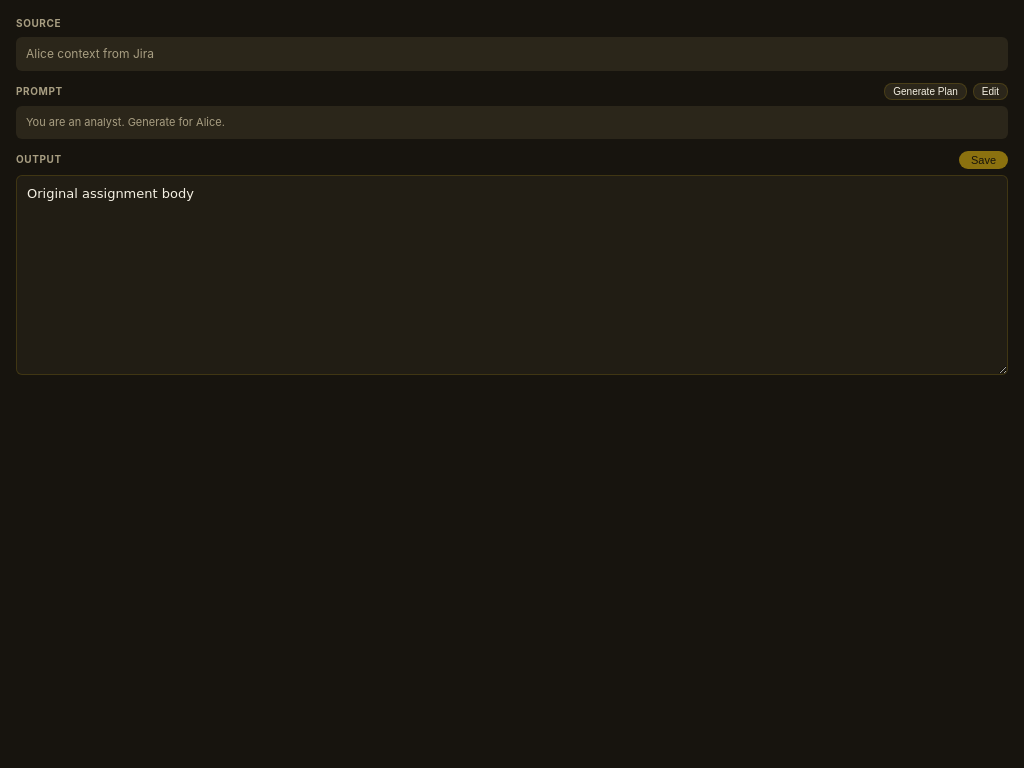
Scenario: PersonAssignmentDetail — prompt edit + modal › Cancel on modal closes without saving
Click the button "Edit": (990, 92) [973, 83, 1008, 100]
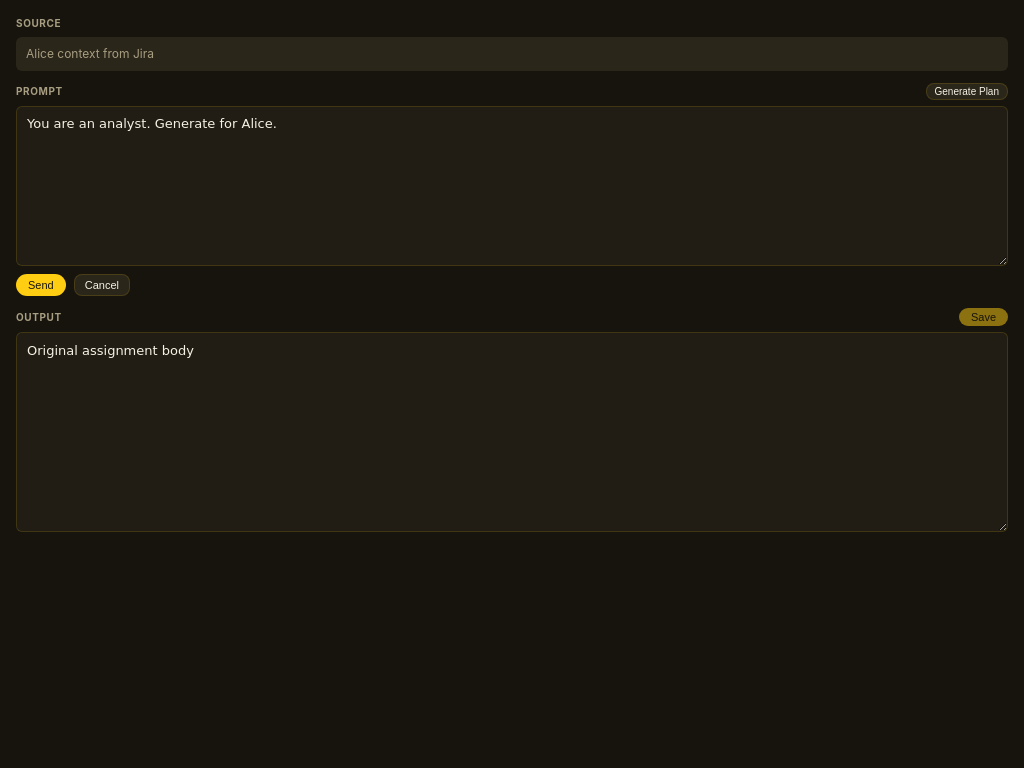
Click the button "Send": (41, 285) [16, 274, 66, 296]
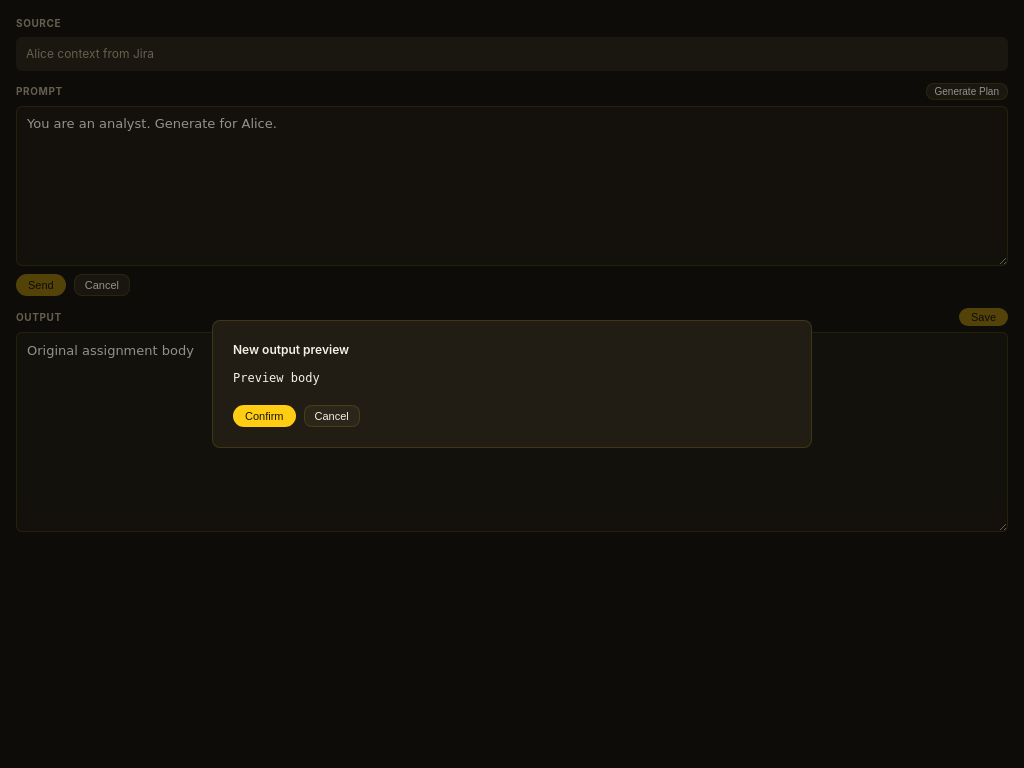
expect the dialog is shown: met
Click the button with aria-label "cancel preview": (332, 416) [304, 405, 360, 427]
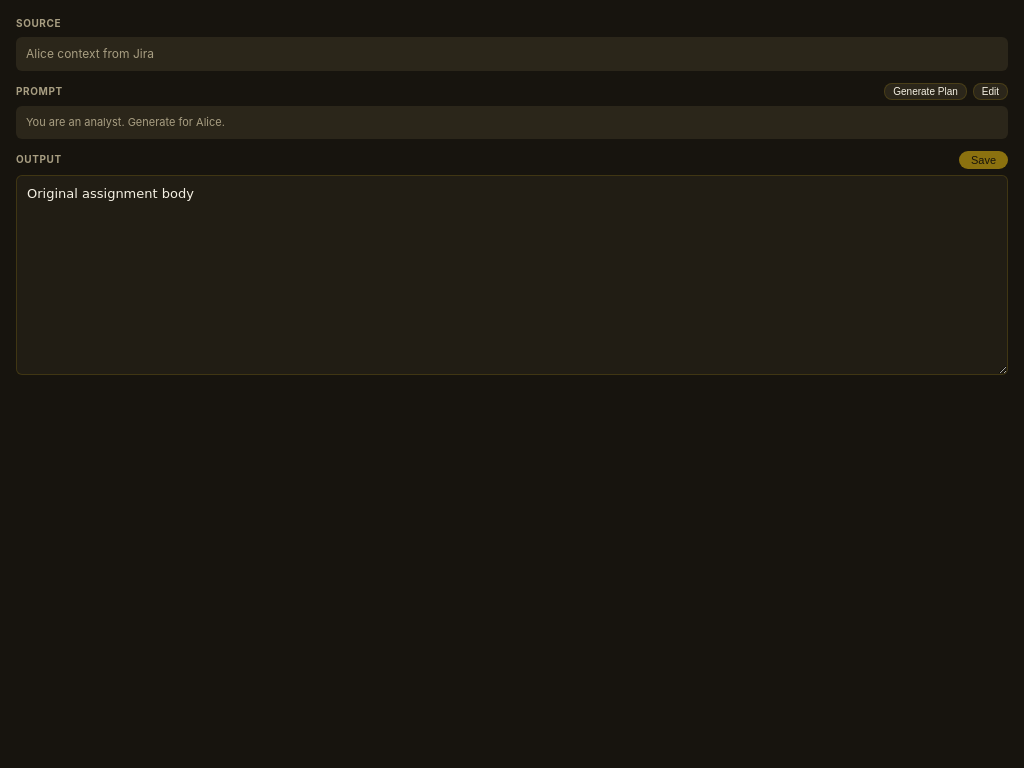
expect the dialog is gone: met
